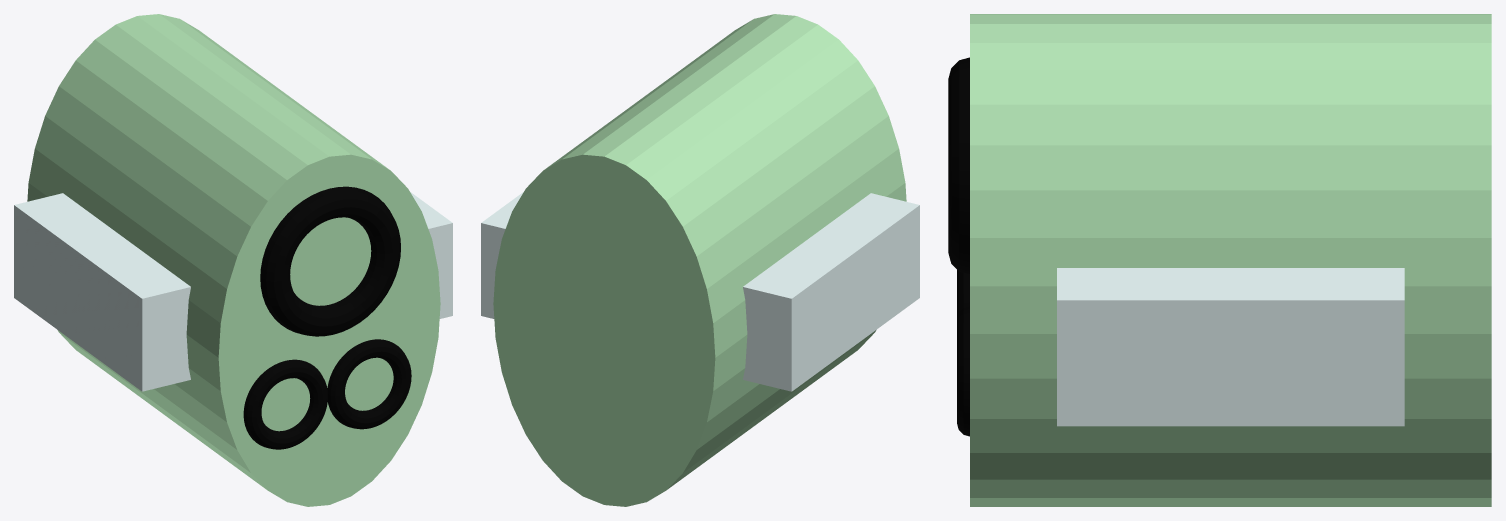
Rendered from MediumEnemyModel.dae.
The picture shows the model from 3 angles, left to right: view 1: azimuth 30°, elevation 25°; view 2: azimuth 150°, elevation 25°; view 3: azimuth 270°, elevation 25°; orthographic projection. The views are drawn at different scales.
Visible parts, largest first — view 1: Cube; view 2: Cube; view 3: Cube.
Boxes of the visible parts, x1,y1,x2,y2 form: Cube: (14,14,452,506); Cube: (481,14,919,506); Cube: (948,14,1491,506).
Bounding box in the file's own units: 1.4 × 1.56 × 1.5.
